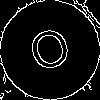O: (25, 25, 78, 82)
